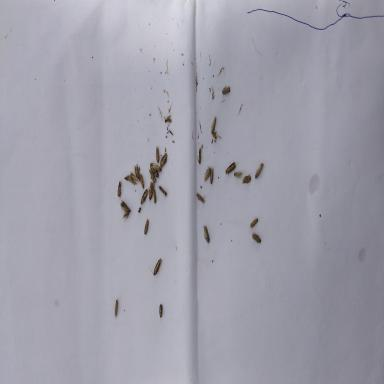pbw: (225, 161, 239, 175), (140, 188, 150, 205), (254, 163, 264, 179), (120, 200, 132, 213), (148, 181, 155, 202), (150, 162, 159, 178), (247, 216, 259, 228), (122, 208, 132, 222), (159, 153, 169, 167), (203, 225, 210, 245), (116, 178, 122, 200), (157, 185, 168, 197), (251, 231, 261, 244), (204, 166, 212, 182), (126, 175, 138, 185), (133, 163, 140, 180), (148, 168, 156, 182), (130, 170, 140, 181), (154, 145, 160, 163), (196, 143, 201, 164), (196, 192, 205, 203), (242, 174, 251, 185), (234, 170, 245, 179), (211, 116, 216, 134), (164, 114, 172, 125), (144, 218, 149, 234), (222, 85, 230, 95), (114, 298, 118, 318), (210, 166, 213, 186), (159, 304, 163, 318), (140, 174, 144, 188), (154, 189, 156, 203)
